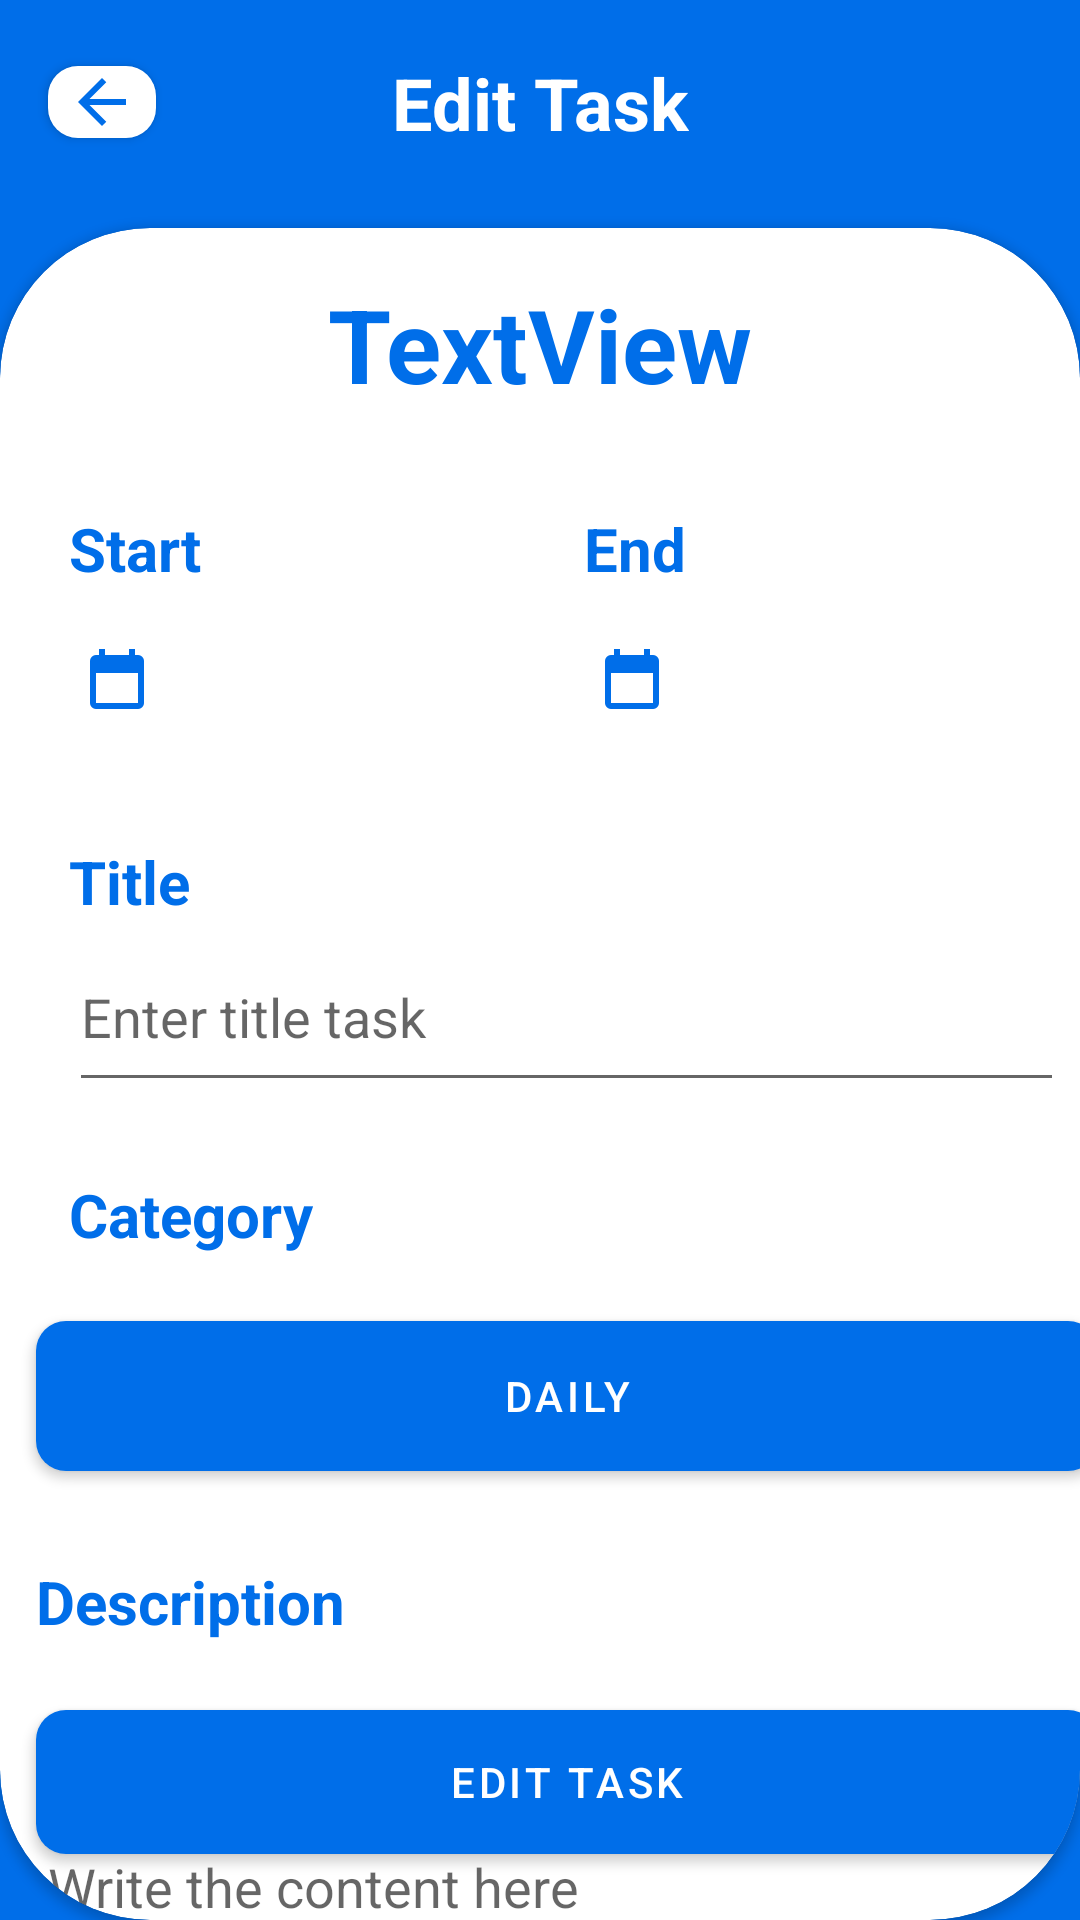

Icons on this 1080 × 1920 Android screen, each with the point to tap as (x=x, y=y):
arrow back: (x=102, y=102)
